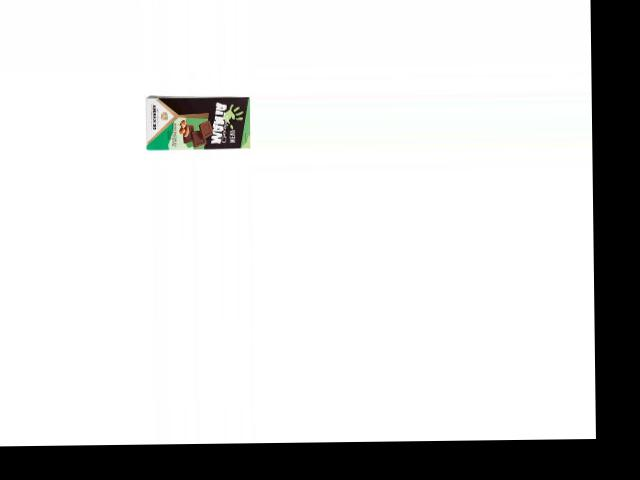chocolate: (143, 93, 252, 152)
